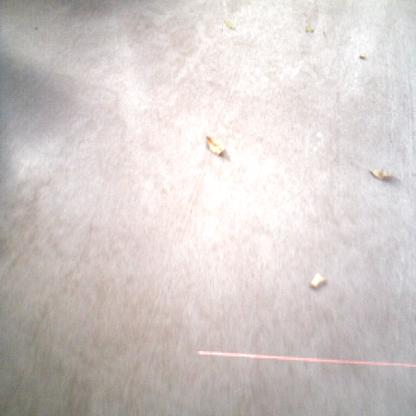dirty: (205, 133, 226, 158), (367, 166, 395, 182), (309, 272, 330, 290), (224, 18, 238, 31), (306, 24, 315, 35), (358, 53, 366, 61)
mark: (322, 28, 328, 40), (34, 25, 39, 32), (220, 28, 225, 33)
